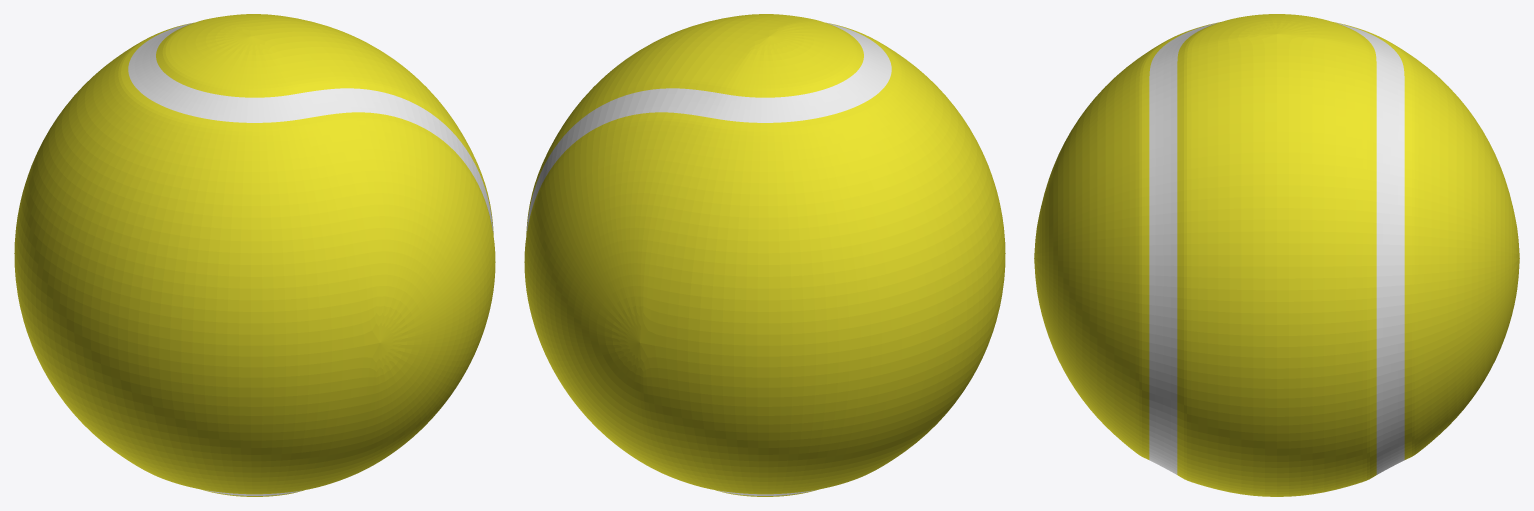
File: T-Ball.fbx
3 renders of one model, left to right at view 1: azimuth 30°, elevation 25°; view 2: azimuth 150°, elevation 25°; view 3: azimuth 270°, elevation 25°, orthographic.
Parts seen in each view (by area): view 1: Sphere; view 2: Sphere; view 3: Sphere.
Part boxes in pixels (left/top/right/bottom): Sphere: left=14, top=14, right=495, bottom=496; Sphere: left=524, top=14, right=1005, bottom=496; Sphere: left=1034, top=14, right=1519, bottom=496.
Size of the model in its own units: 11.79 by 11.89 by 11.89.
